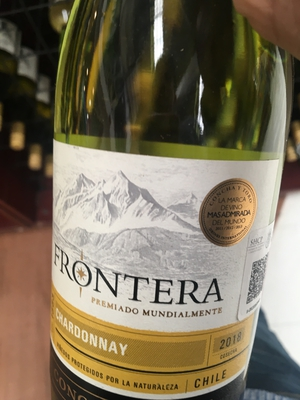frontera chardonnay: (40, 12, 290, 400)
